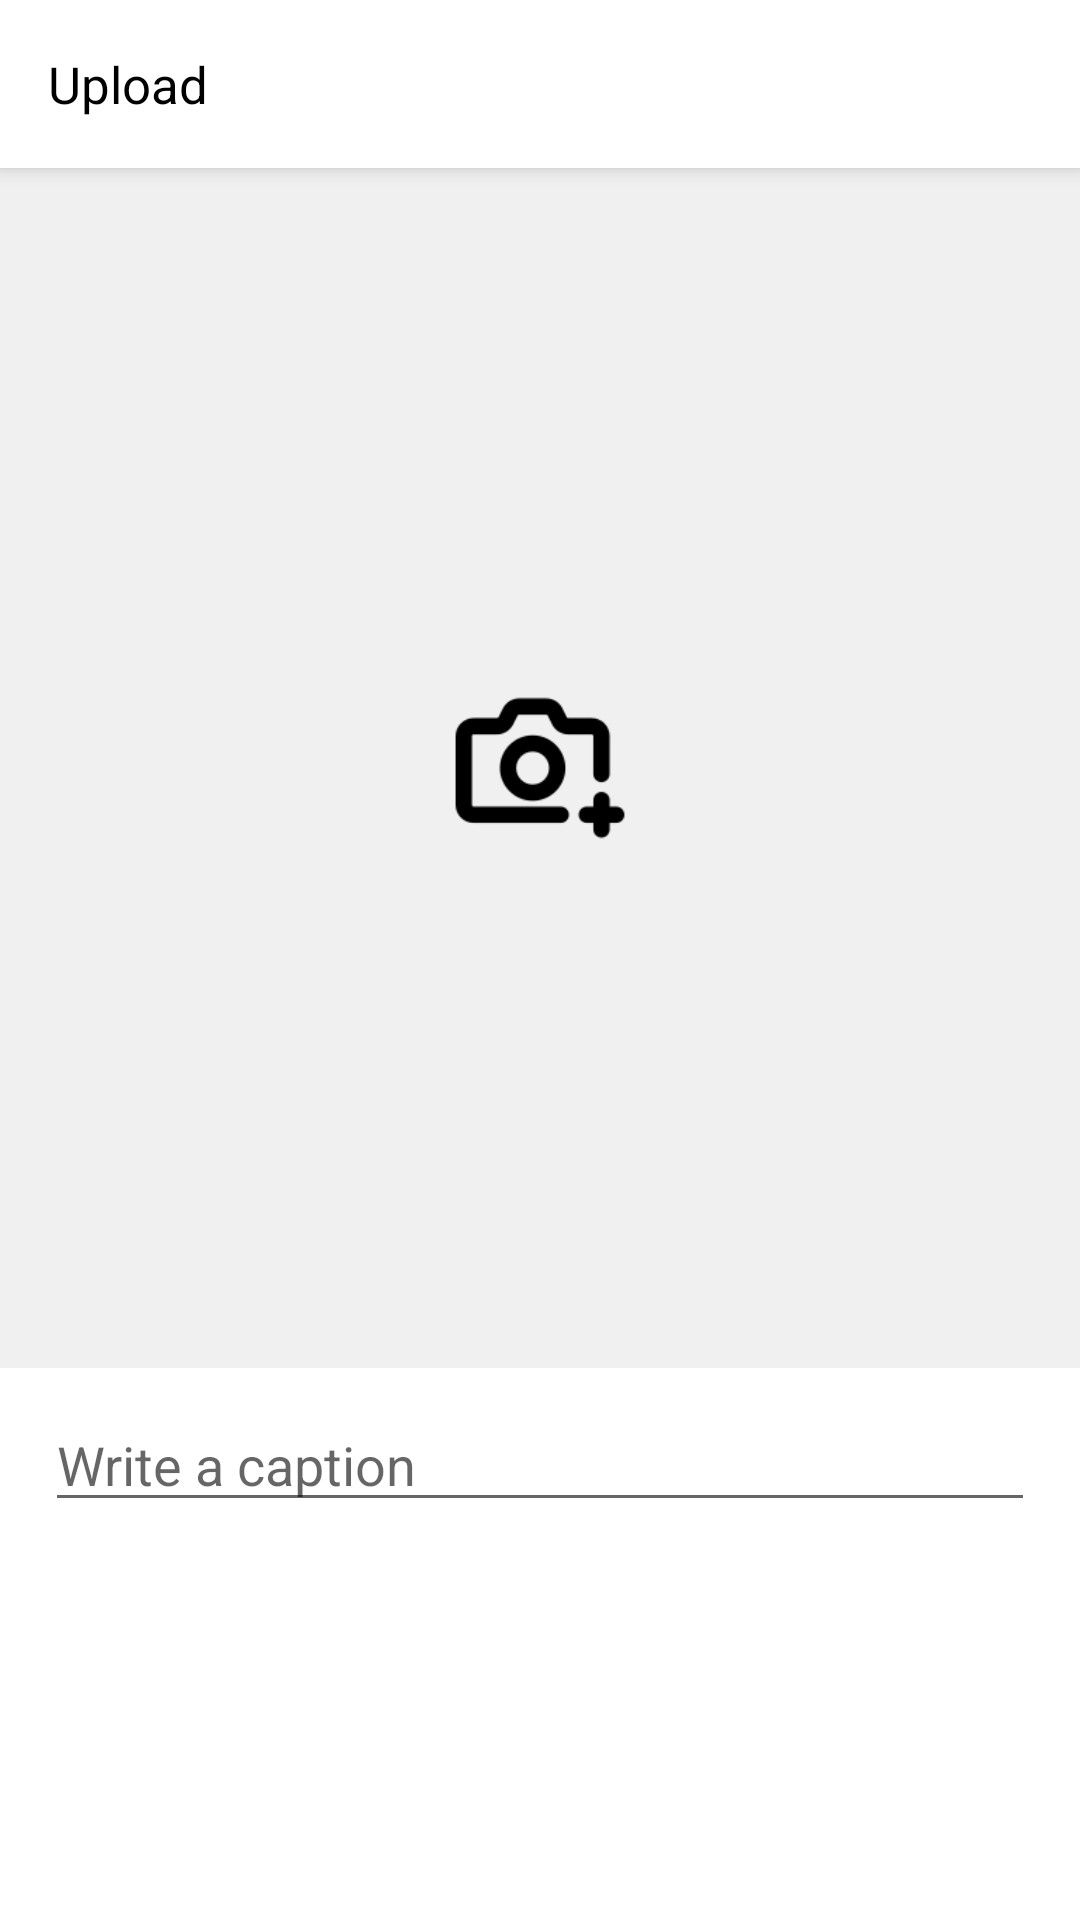

Where to tap for icons on this 1080px x 1920px app screen, as (x,y):
add photo: (540,768)
